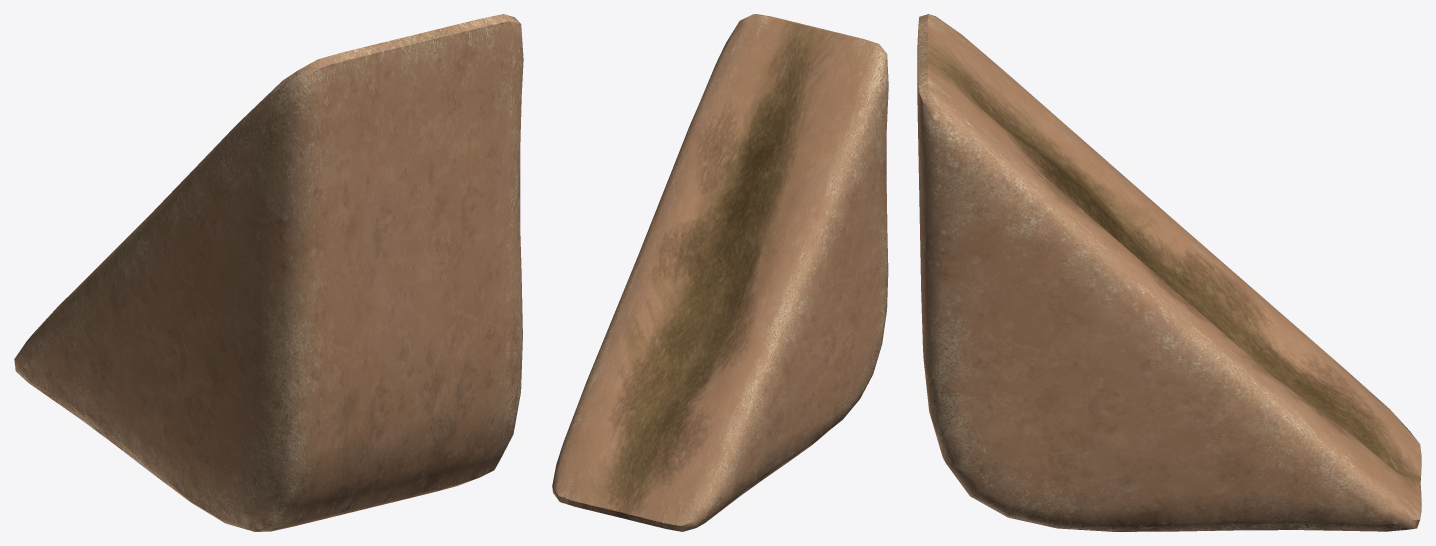
The model's file is SlopeDouble.fbx.
The picture shows the model from 3 angles, left to right: view 1: azimuth 30°, elevation 25°; view 2: azimuth 150°, elevation 25°; view 3: azimuth 270°, elevation 25°; orthographic projection. The views are drawn at different scales.
Parts seen in each view (by area): view 1: SlopeSingleSize2; view 2: SlopeSingleSize2; view 3: SlopeSingleSize2.
Part boxes in pixels (bbox=[...]): SlopeSingleSize2: bbox=[14, 14, 523, 531]; SlopeSingleSize2: bbox=[552, 14, 888, 531]; SlopeSingleSize2: bbox=[917, 14, 1421, 531].
Size of the model in its own units: 198 by 388 by 401.
